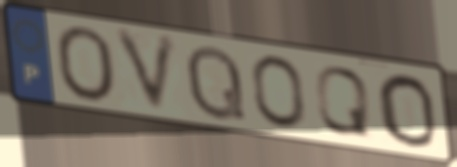O: (52, 24, 118, 105), (374, 72, 441, 151), (249, 53, 310, 132)
Q: (184, 42, 250, 123), (312, 64, 374, 140)
V: (110, 26, 182, 119)
